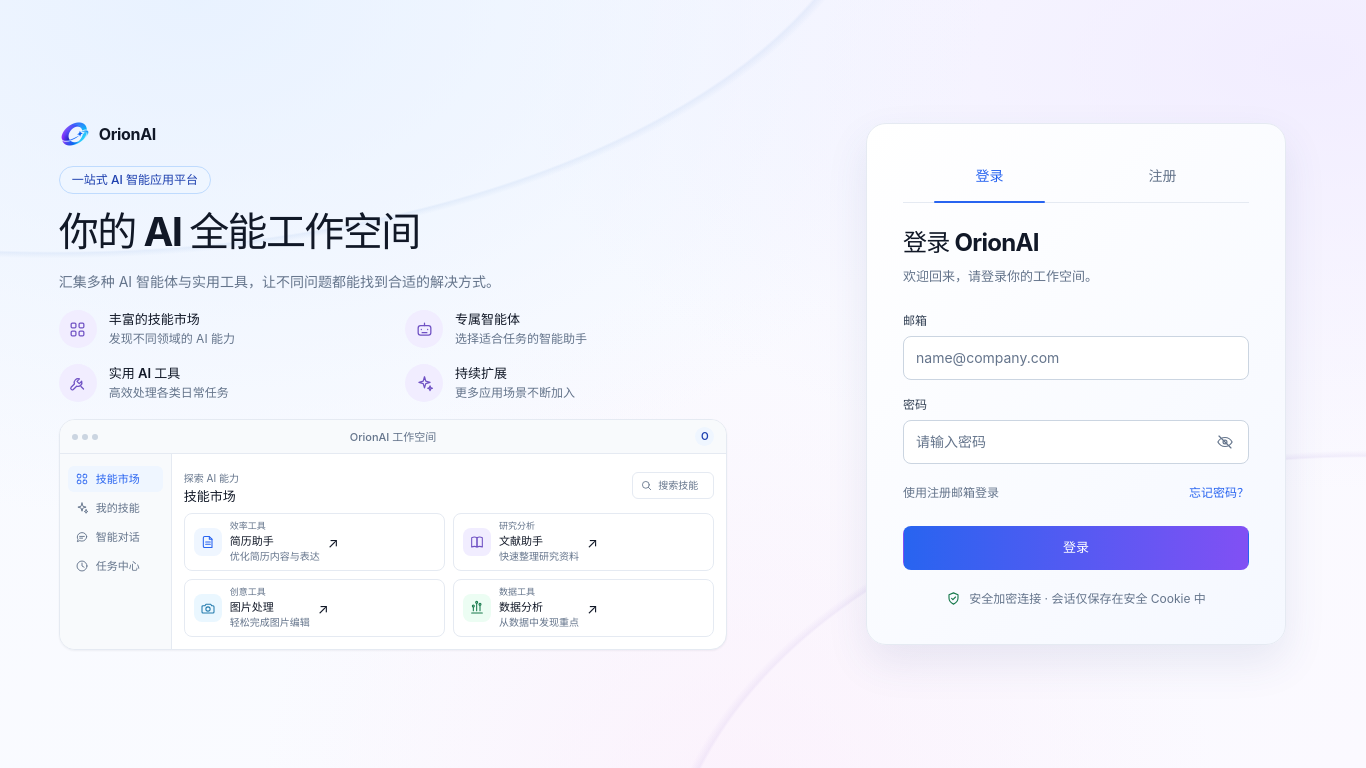
Test: OrionAI authentication page › shows login errors in a toast outside the authentication card
The width and height of the screenshot is (1366, 768).
In the field labelled "邮箱": {"x": 1076, "y": 358} x1=903 y1=336 x2=1249 y2=380, type "person@example.com"
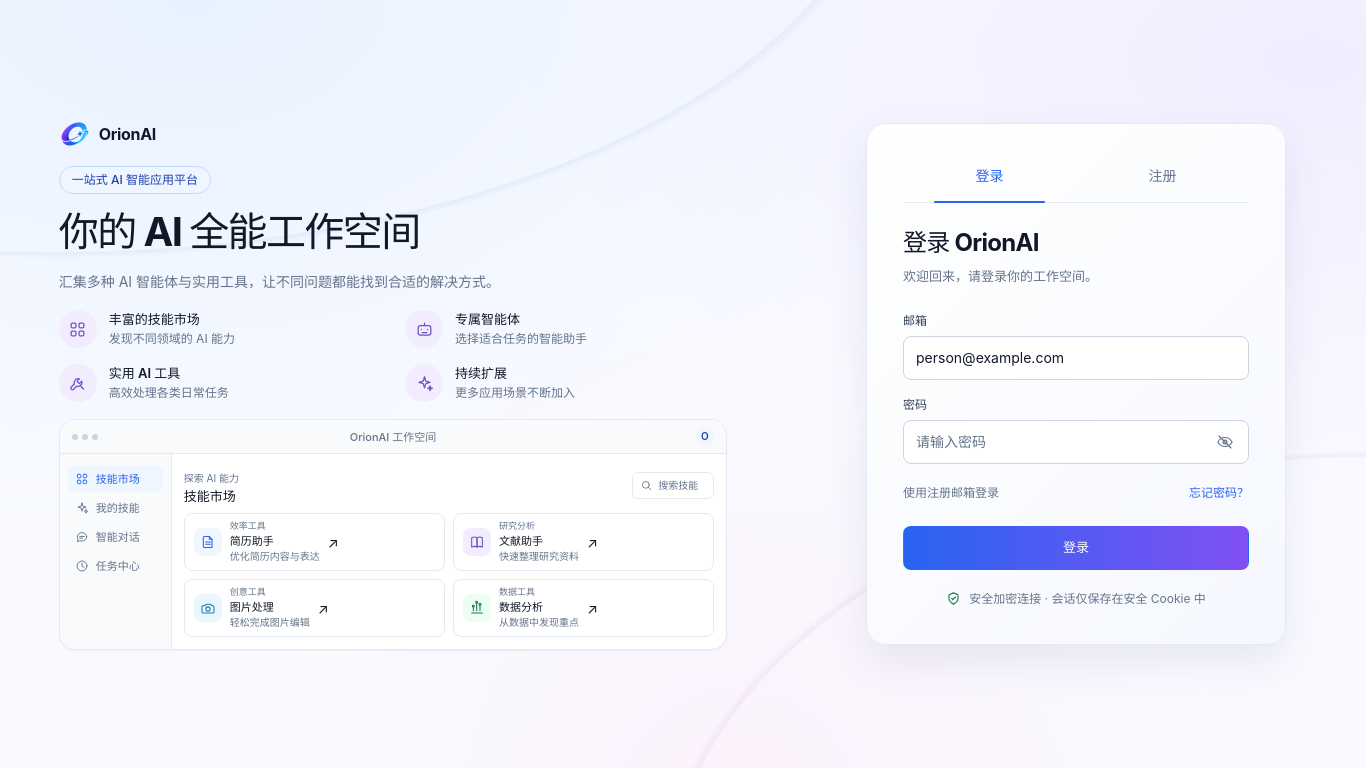
In the password field labelled "密码": {"x": 1076, "y": 442} x1=903 y1=420 x2=1249 y2=464, type "incorrect password"
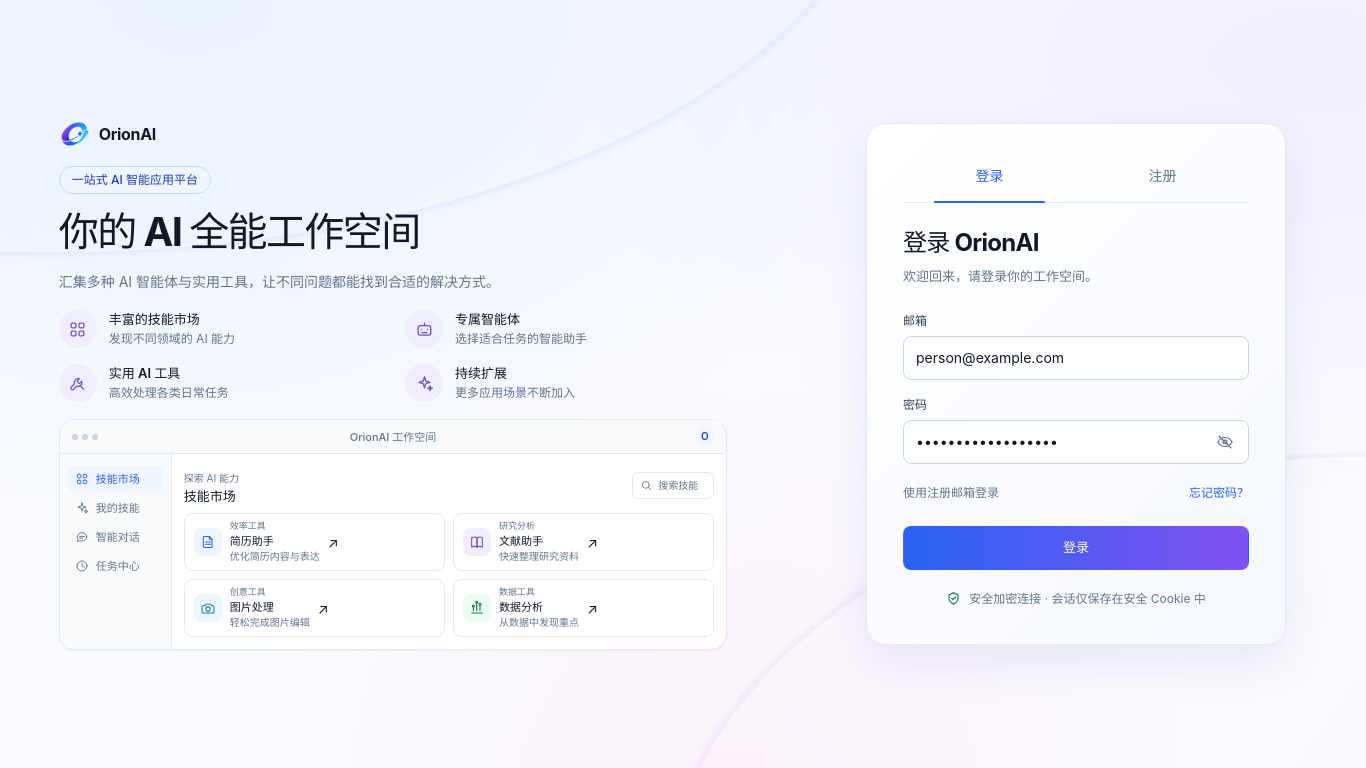
Click the button "登录": {"x": 1076, "y": 548} x1=903 y1=526 x2=1249 y2=570
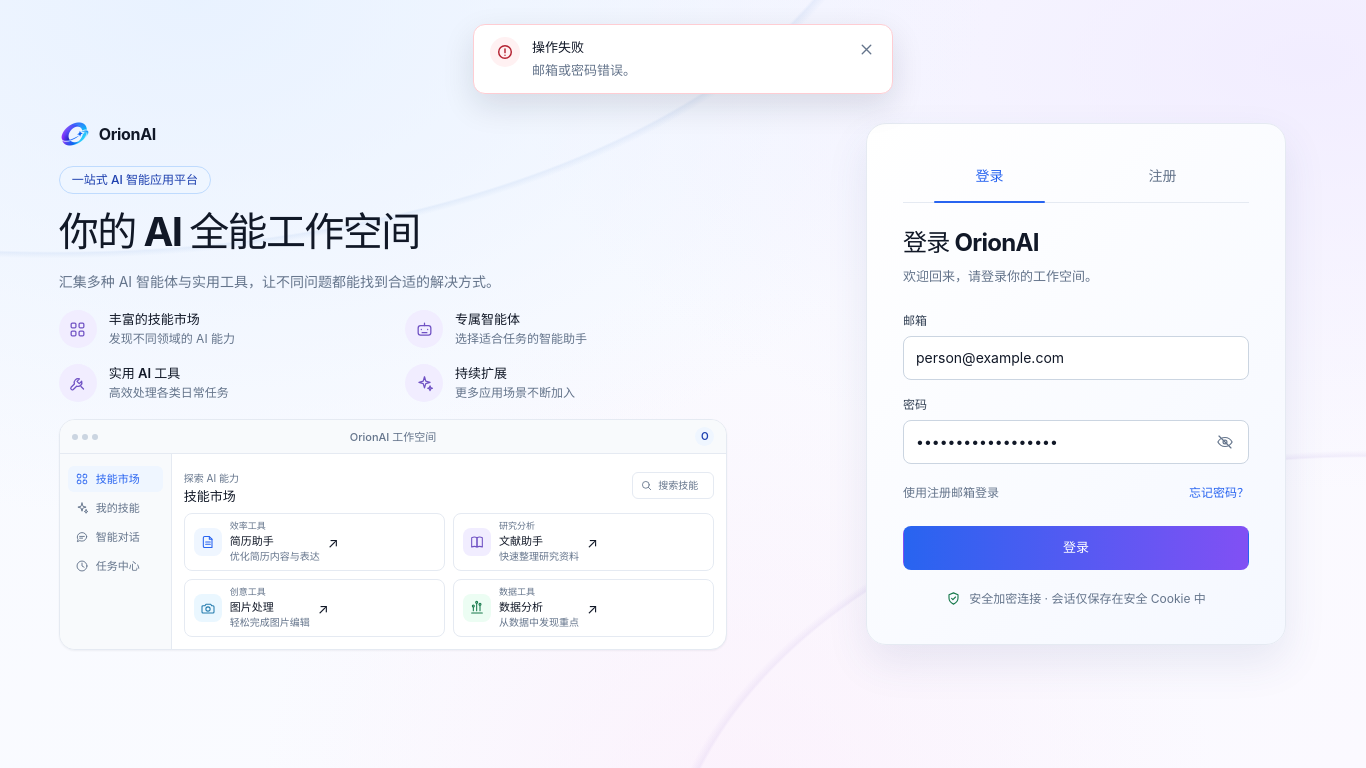
Expected: the message shows "邮箱或密码错误。", x1=532 y1=62 x2=636 y2=78
